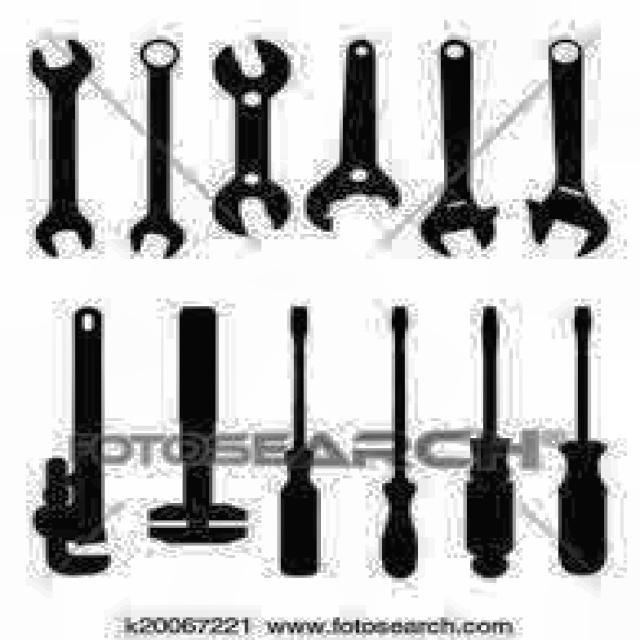screwdriver: (556, 304, 612, 574), (466, 306, 516, 578), (378, 306, 419, 578), (283, 306, 318, 576)
